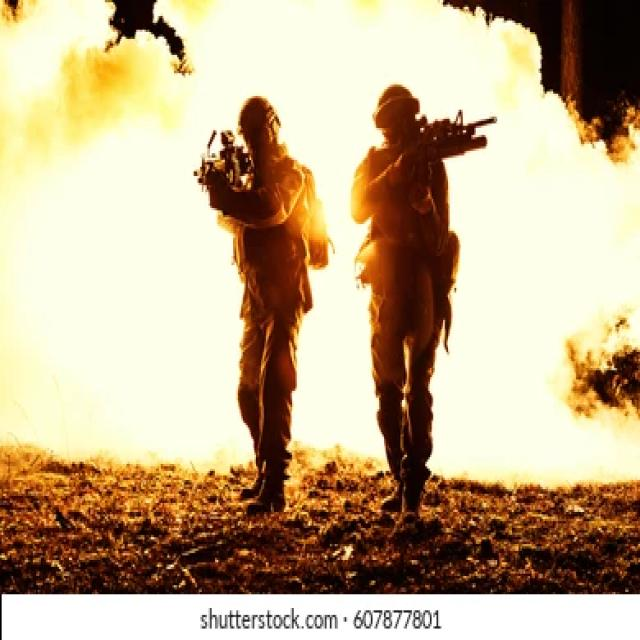soldier: (352, 84, 500, 535), (198, 97, 329, 516)
